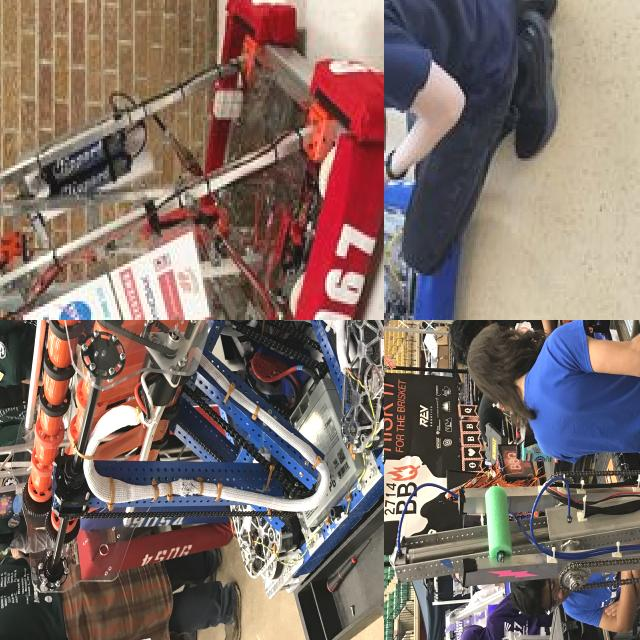FRC-Robots: (0, 0, 384, 320), (27, 320, 384, 592), (384, 326, 640, 640), (384, 107, 485, 320)
